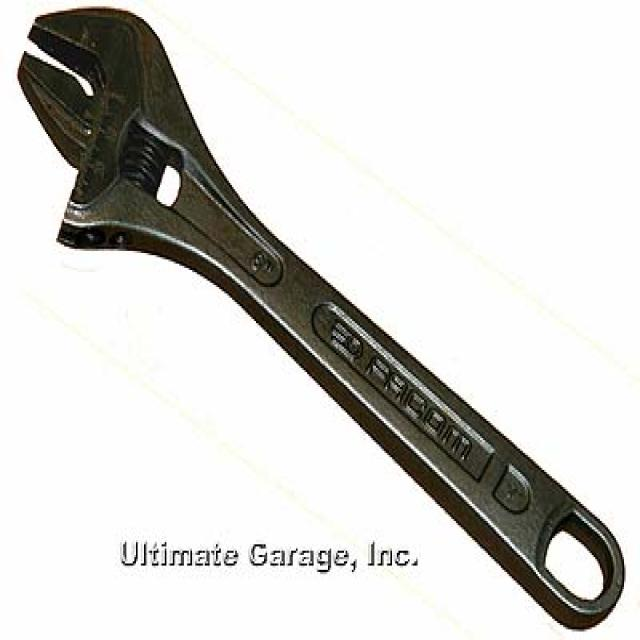wrench: (16, 6, 627, 634)
